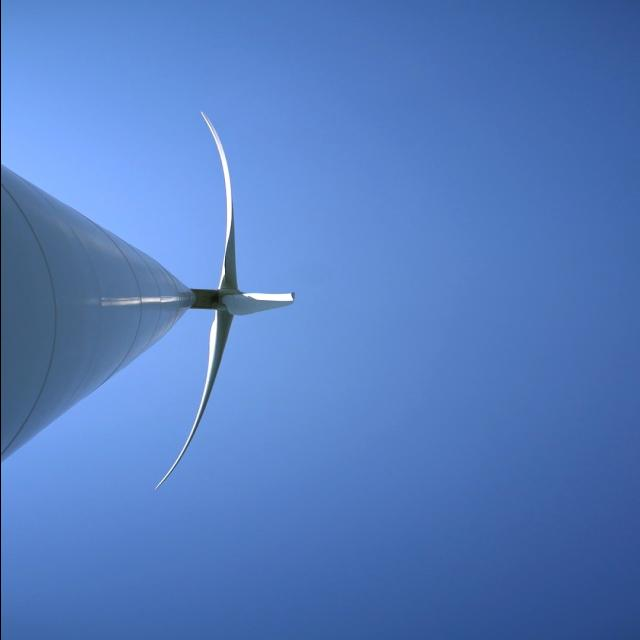blade 1: (197, 77, 243, 286)
blade 2: (242, 290, 300, 340)
blade 3: (155, 347, 224, 487)
